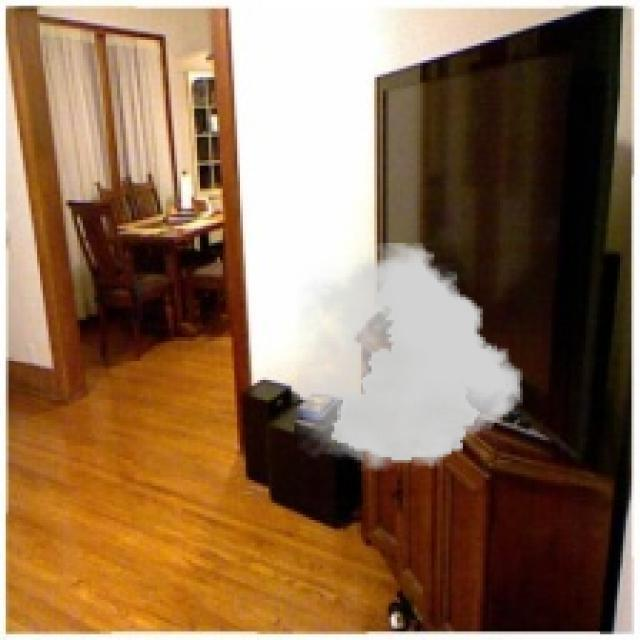Smoke: (297, 243, 523, 471)
